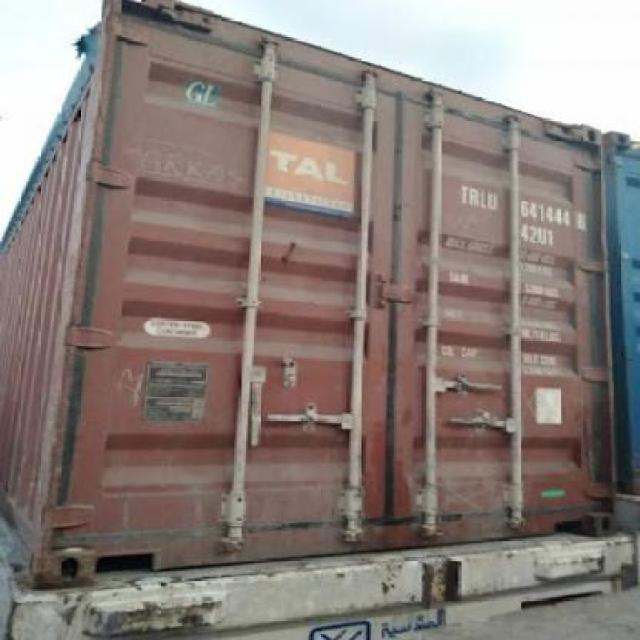ISO: (519, 223, 556, 246)
container_number: (461, 186, 586, 226)
